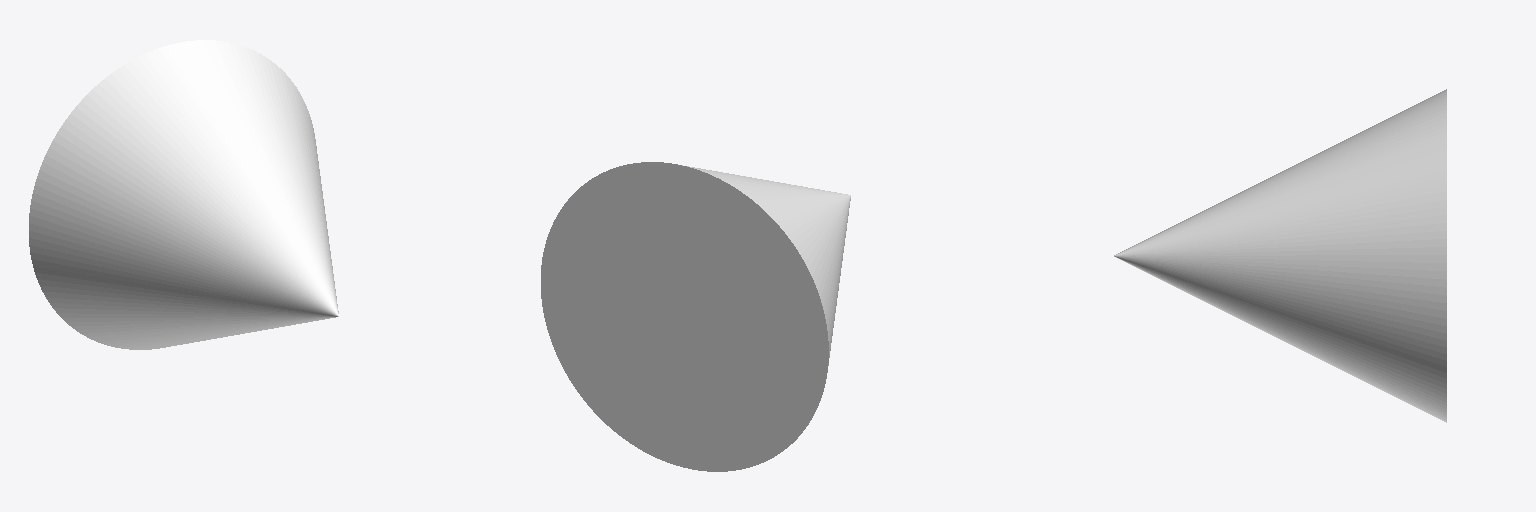
The model's file is spotlight.obj.
3 views of the same model, side by side, from view 1: azimuth 30°, elevation 25°; view 2: azimuth 150°, elevation 25°; view 3: azimuth 270°, elevation 25° (orthographic).
Visible parts, largest first — view 1: Cone; view 2: Cone; view 3: Cone.
Boxes of the visible parts, box(x1,y1,x2,y2) form: Cone: box(29, 40, 338, 349); Cone: box(541, 162, 850, 471); Cone: box(1114, 89, 1446, 422).
Bounding box in the file's own units: 0.2046 × 0.2046 × 0.2046.